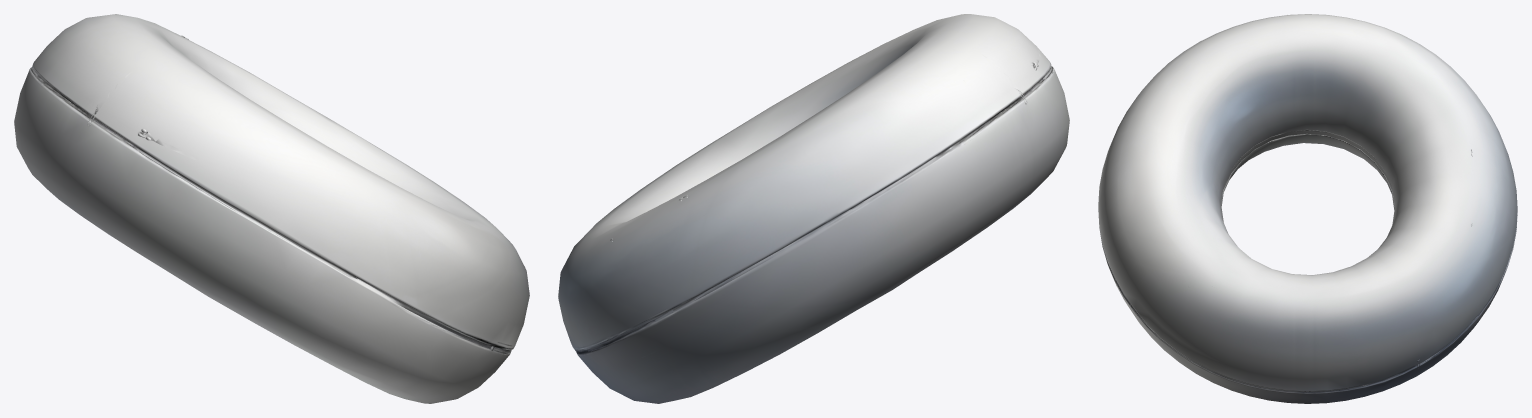
File: artifact-spinning-ring.glb
3 renders of one model, left to right at view 1: azimuth 30°, elevation 25°; view 2: azimuth 150°, elevation 25°; view 3: azimuth 270°, elevation 25°, orthographic. The views are drawn at different scales.
Visible parts, largest first — view 1: tripo_node_b57ba714-c58a-4bac-b660-9fd325c570d6; view 2: tripo_node_b57ba714-c58a-4bac-b660-9fd325c570d6; view 3: tripo_node_b57ba714-c58a-4bac-b660-9fd325c570d6.
Boxes of the visible parts, x1=… form: tripo_node_b57ba714-c58a-4bac-b660-9fd325c570d6: x1=14, y1=14, x2=529, y2=403; tripo_node_b57ba714-c58a-4bac-b660-9fd325c570d6: x1=558, y1=14, x2=1069, y2=403; tripo_node_b57ba714-c58a-4bac-b660-9fd325c570d6: x1=1098, y1=14, x2=1517, y2=403.
Bounding box in the file's own units: 0.8901 × 0.7485 × 0.9995.
1 material, 1 textured.
